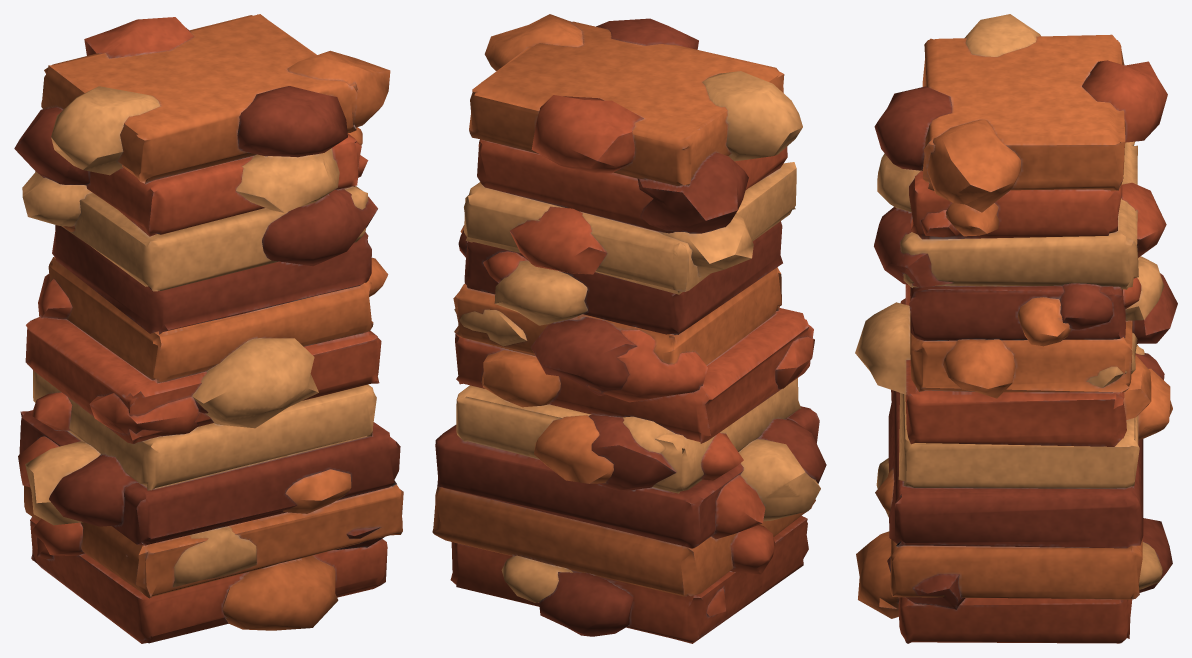
The model's file is rr_cliff_wall.glb.
3 renders of one model, left to right at view 1: azimuth 30°, elevation 25°; view 2: azimuth 150°, elevation 25°; view 3: azimuth 270°, elevation 25°, orthographic.
Parts seen in each view (by area): view 1: rr_cliff_wall; view 2: rr_cliff_wall; view 3: rr_cliff_wall.
Boxes of the visible parts, x1=… form: rr_cliff_wall: x1=14, y1=14, x2=403, y2=643; rr_cliff_wall: x1=432, y1=14, x2=826, y2=643; rr_cliff_wall: x1=855, y1=14, x2=1177, y2=643.
Bounding box in the file's own units: 15.8 × 23.47 × 13.02.
Materials: 4 (4 with a texture image).
